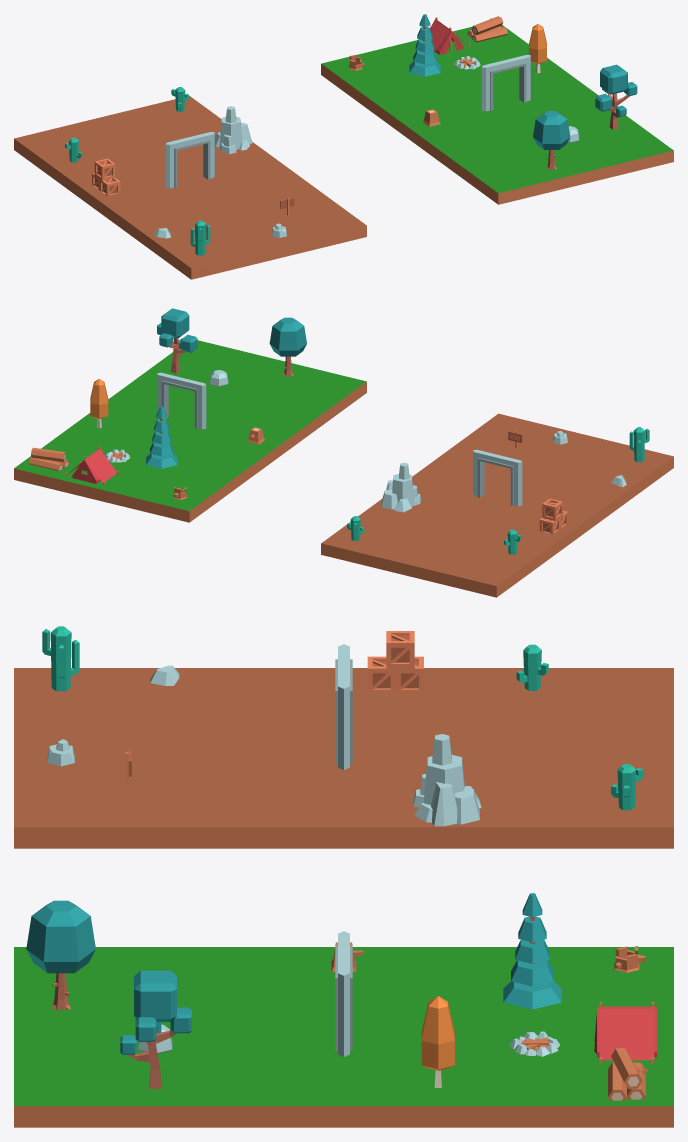
The model's file is map.glb.
3 renders of one model, top to bottom at view 1: azimuth 30°, elevation 25°; view 2: azimuth 150°, elevation 25°; view 3: azimuth 270°, elevation 25°, orthographic. The views are drawn at different scales.
Visible parts, largest first — view 1: ground (×2), doorway_wideThin (×2), tree_detailed_dark, tree_oak_dark, stone_tallB, tree_pineRoundA, tent_detailedOpen, log_stack, tree_small_fall, cactus_tall, detail_crate; view 2: ground (×2), doorway_wideThin (×2), tree_detailed_dark, tree_oak_dark, stone_tallB, tree_pineRoundA, tent_detailedOpen, log_stack, tree_small_fall, cactus_tall; view 3: ground (×2), tree_oak_dark, tree_detailed_dark, doorway_wideThin (×2), stone_tallB, tree_pineRoundA, tent_detailedOpen, detail_crate (×3), tree_small_fall, cactus_short (×2), cactus_tall, log_stack.
Part boxes in pixels (left/top/right/bottom): ground (×2): left=14, top=25, right=673, bottom=279; doorway_wideThin (×2): left=165, top=55, right=530, bottom=188; tree_detailed_dark: left=595, top=64, right=637, bottom=129; tree_oak_dark: left=533, top=111, right=570, bottom=169; stone_tallB: left=215, top=106, right=252, bottom=154; tree_pineRoundA: left=409, top=14, right=440, bottom=76; tent_detailedOpen: left=429, top=17, right=469, bottom=54; log_stack: left=467, top=16, right=507, bottom=42; tree_small_fall: left=529, top=24, right=546, bottom=73; cactus_tall: left=190, top=220, right=210, bottom=255; detail_crate: left=94, top=158, right=115, bottom=180; ground (×2): left=14, top=340, right=673, bottom=597; doorway_wideThin (×2): left=157, top=372, right=522, bottom=506; tree_detailed_dark: left=157, top=308, right=197, bottom=373; tree_oak_dark: left=269, top=317, right=306, bottom=376; stone_tallB: left=381, top=462, right=421, bottom=512; tree_pineRoundA: left=146, top=406, right=177, bottom=468; tent_detailedOpen: left=66, top=446, right=118, bottom=485; log_stack: left=29, top=447, right=68, bottom=471; tree_small_fall: left=90, top=379, right=108, bottom=428; cactus_tall: left=629, top=427, right=649, bottom=462; ground (×2): left=14, top=668, right=673, bottom=1127; tree_oak_dark: left=26, top=900, right=95, bottom=1009; tree_detailed_dark: left=120, top=970, right=191, bottom=1088; doorway_wideThin (×2): left=335, top=644, right=352, bottom=1056; stone_tallB: left=413, top=734, right=481, bottom=826; tree_pineRoundA: left=503, top=893, right=561, bottom=1009; tent_detailedOpen: left=594, top=1002, right=656, bottom=1063; detail_crate (×3): left=367, top=631, right=423, bottom=689; tree_small_fall: left=421, top=996, right=454, bottom=1087; cactus_short (×2): left=516, top=644, right=643, bottom=810; cactus_tall: left=42, top=626, right=79, bottom=691; log_stack: left=608, top=1047, right=647, bottom=1100.
Size of the model in its own units: 11 by 1.57 by 7.
